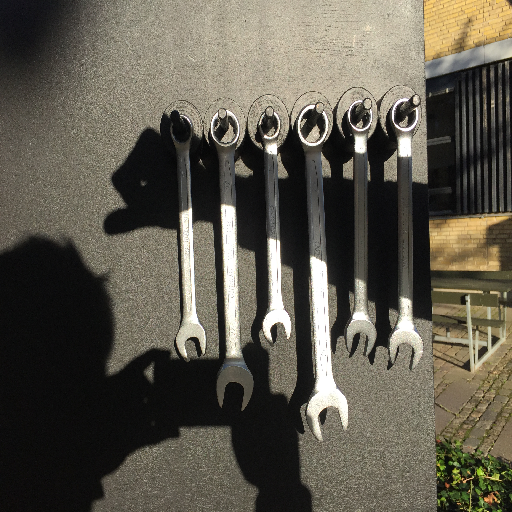bottom: (305, 385, 351, 444), (214, 361, 254, 412), (388, 323, 423, 372), (344, 311, 378, 359), (174, 321, 207, 364), (261, 307, 292, 346)
top: (294, 102, 330, 153), (209, 109, 241, 152), (388, 97, 422, 137), (346, 99, 374, 136), (168, 114, 196, 148), (256, 109, 283, 143)
